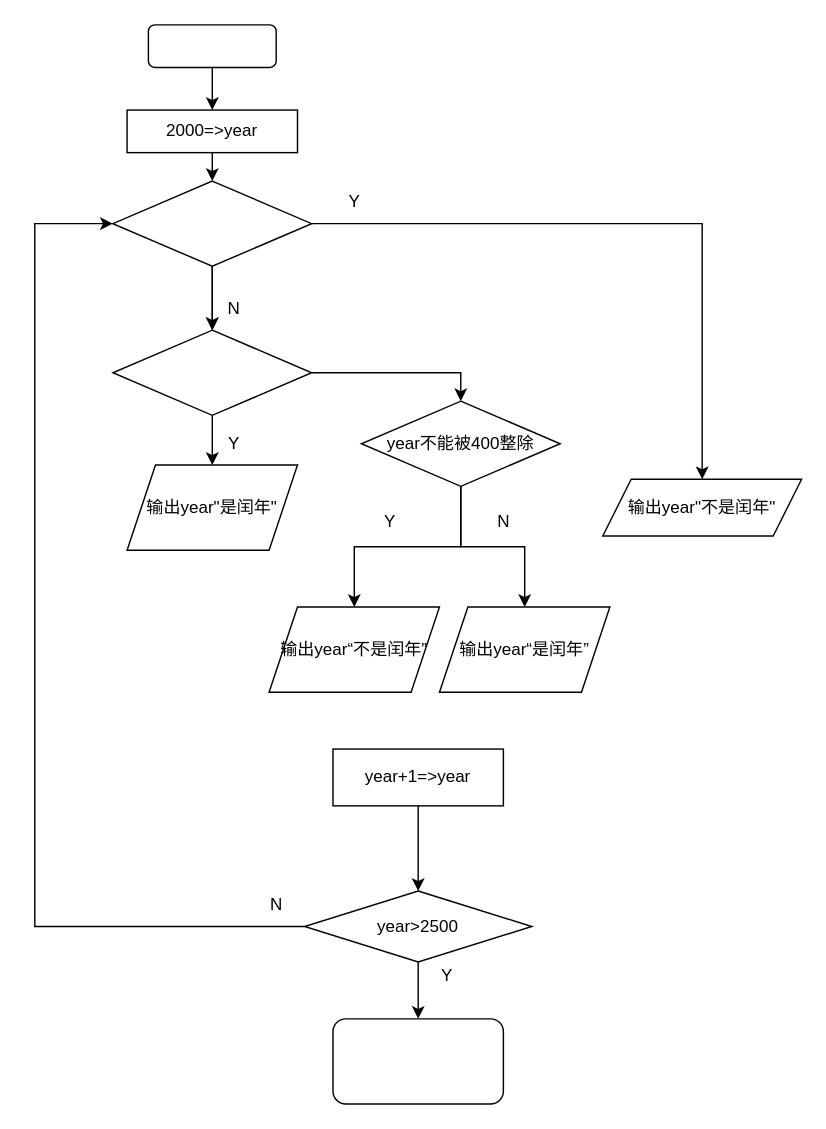
This 826x1129 diagram has some shape labels left out. Here are the shapes that lost their labels. From the top down, the centre of each, then its label:
At point 211,45: "开始".
At point 211,223: "year不能被4整除".
At point 211,372: "year不能被100整除".
At point 417,1060: "结束".
